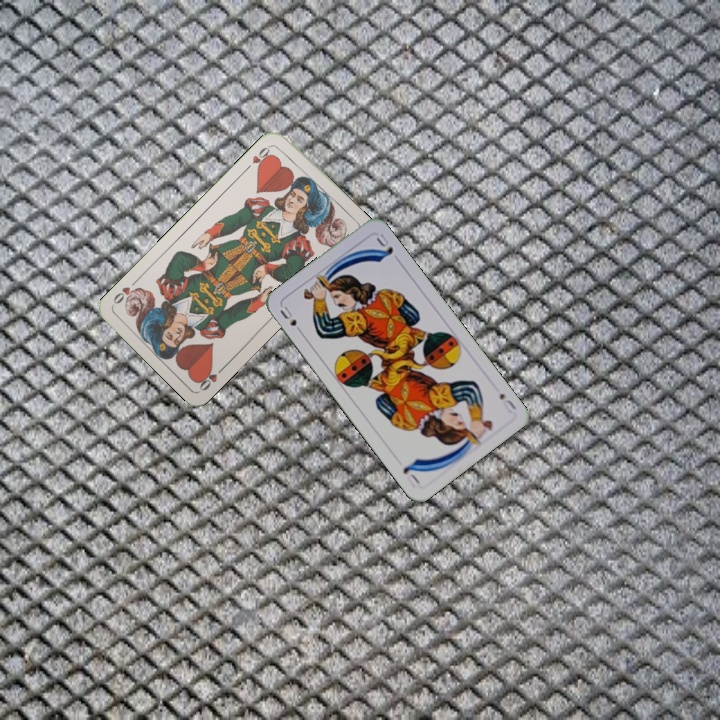HO: (194, 361, 229, 393), (241, 141, 274, 173)
SU: (276, 302, 306, 337), (495, 389, 519, 416)
